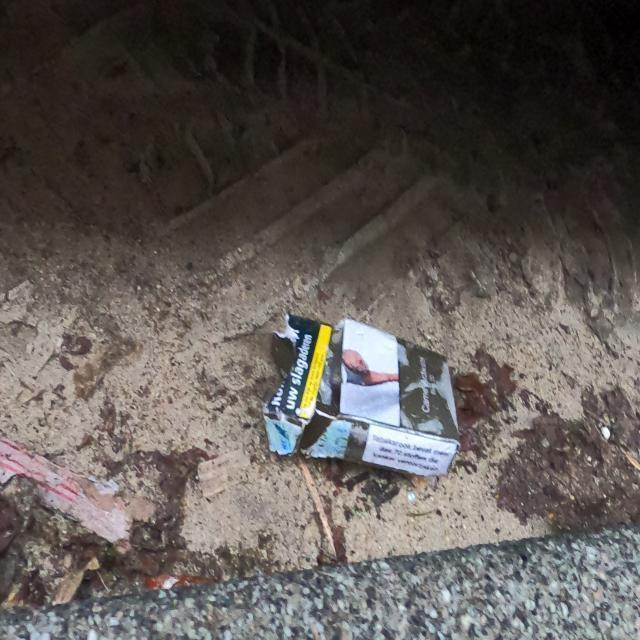Paper: (260, 309, 462, 481)
Plastic: (0, 431, 136, 554)
